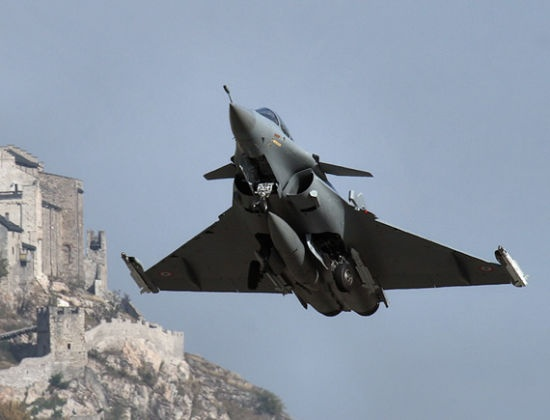airplane: (118, 85, 528, 319)
